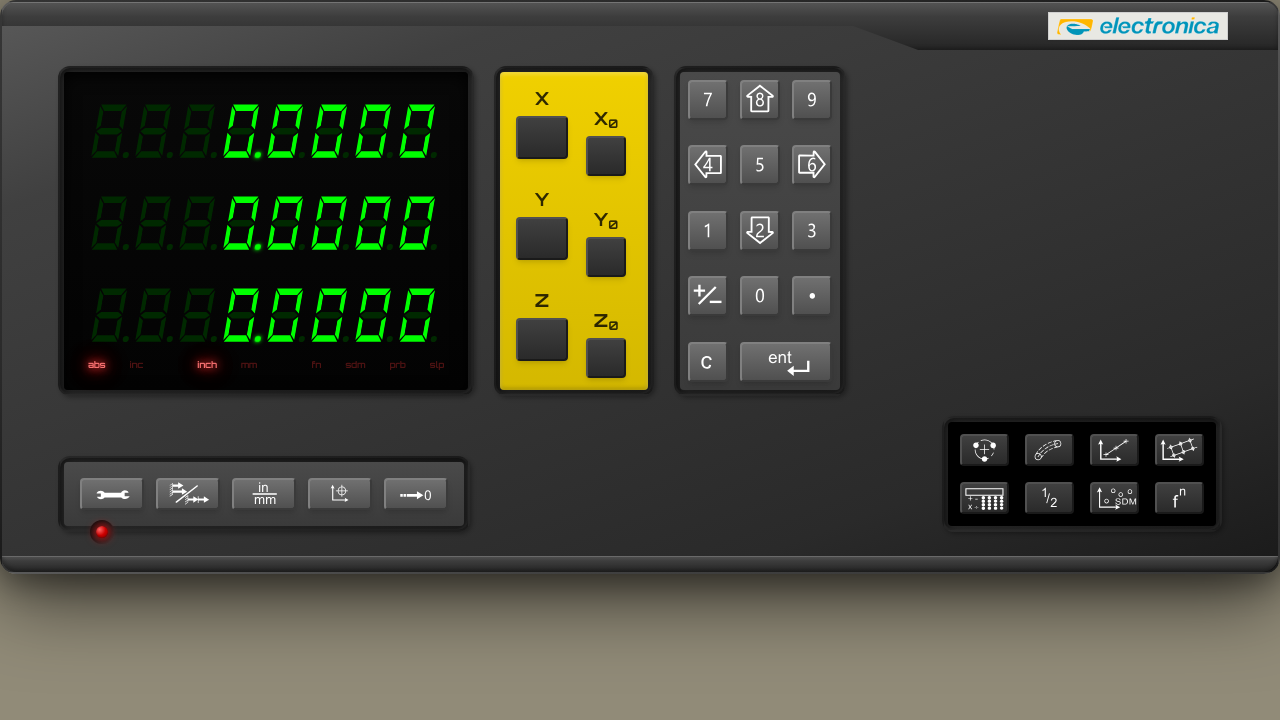
Scenario: US-048 Screen Reader Support (integration) › AC: LED indicators as disabled radios › moves the checked units radio when toggling to mm
Click the button with test id "btn-toggle-unit" at (264, 494), box [232,478,296,510]
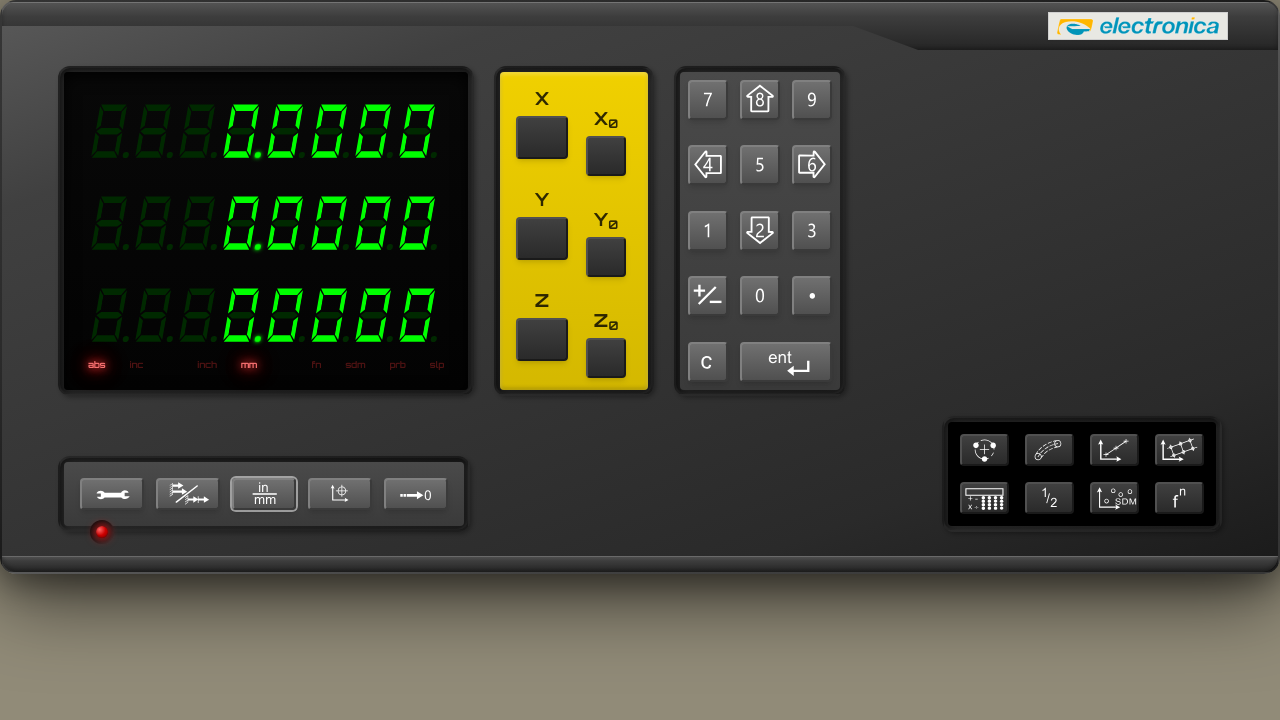
Expected: the radio button labelled "inch" is not checked, [197,359,217,370]
Expected: the radio button labelled "mm" is checked, [241,359,258,370]
